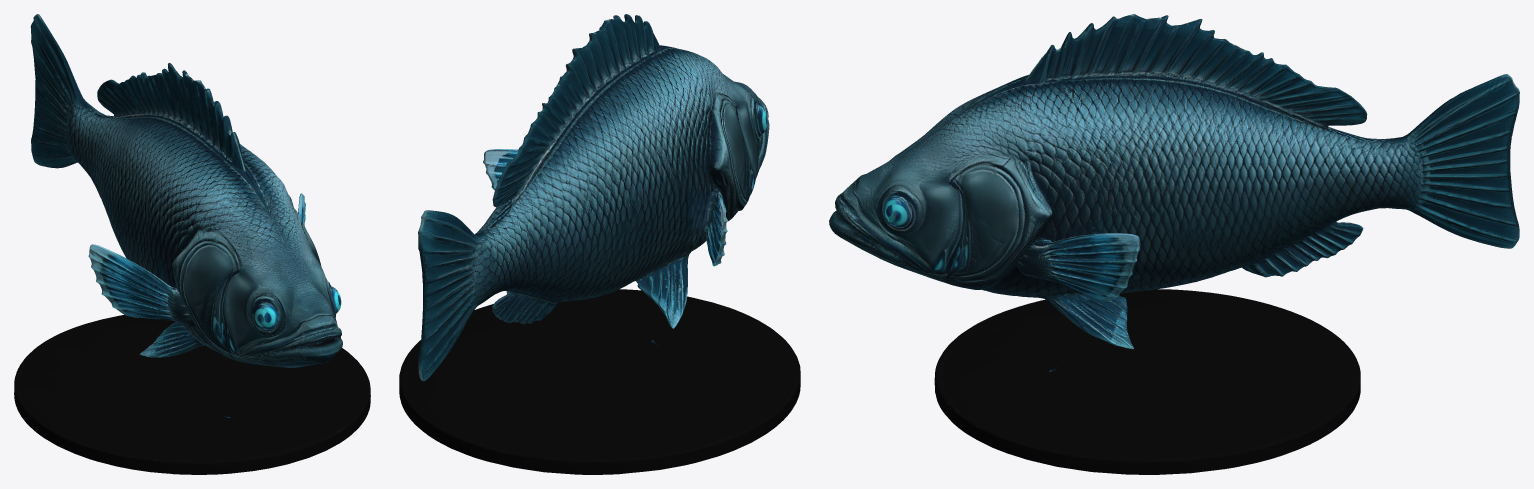
File: fish_lodestone_bream.glb
3 renders of one model, left to right at view 1: azimuth 30°, elevation 25°; view 2: azimuth 150°, elevation 25°; view 3: azimuth 270°, elevation 25°, orthographic. The views are drawn at different scales.
Bounding box in the file's own units: 1.12 × 1.14 × 1.9.
1 material, 1 textured.
